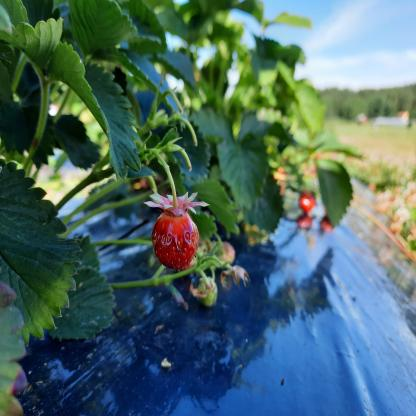ripe: (152, 213, 198, 268), (300, 194, 316, 214)
